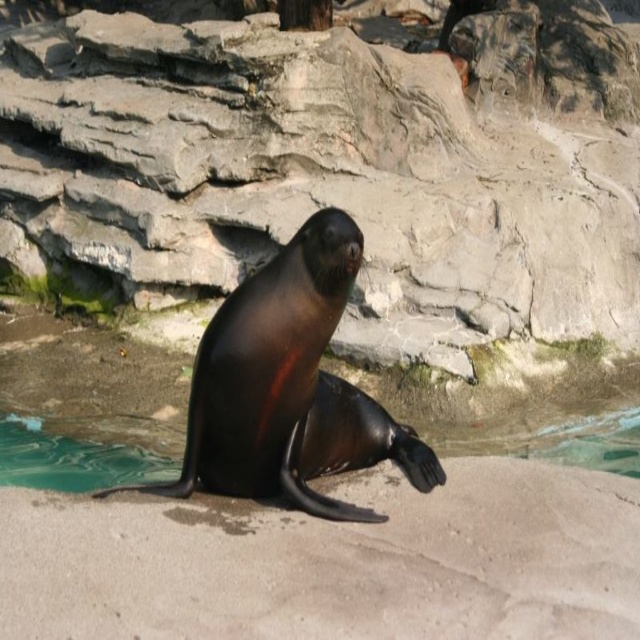Sea lion: (95, 207, 449, 522)
